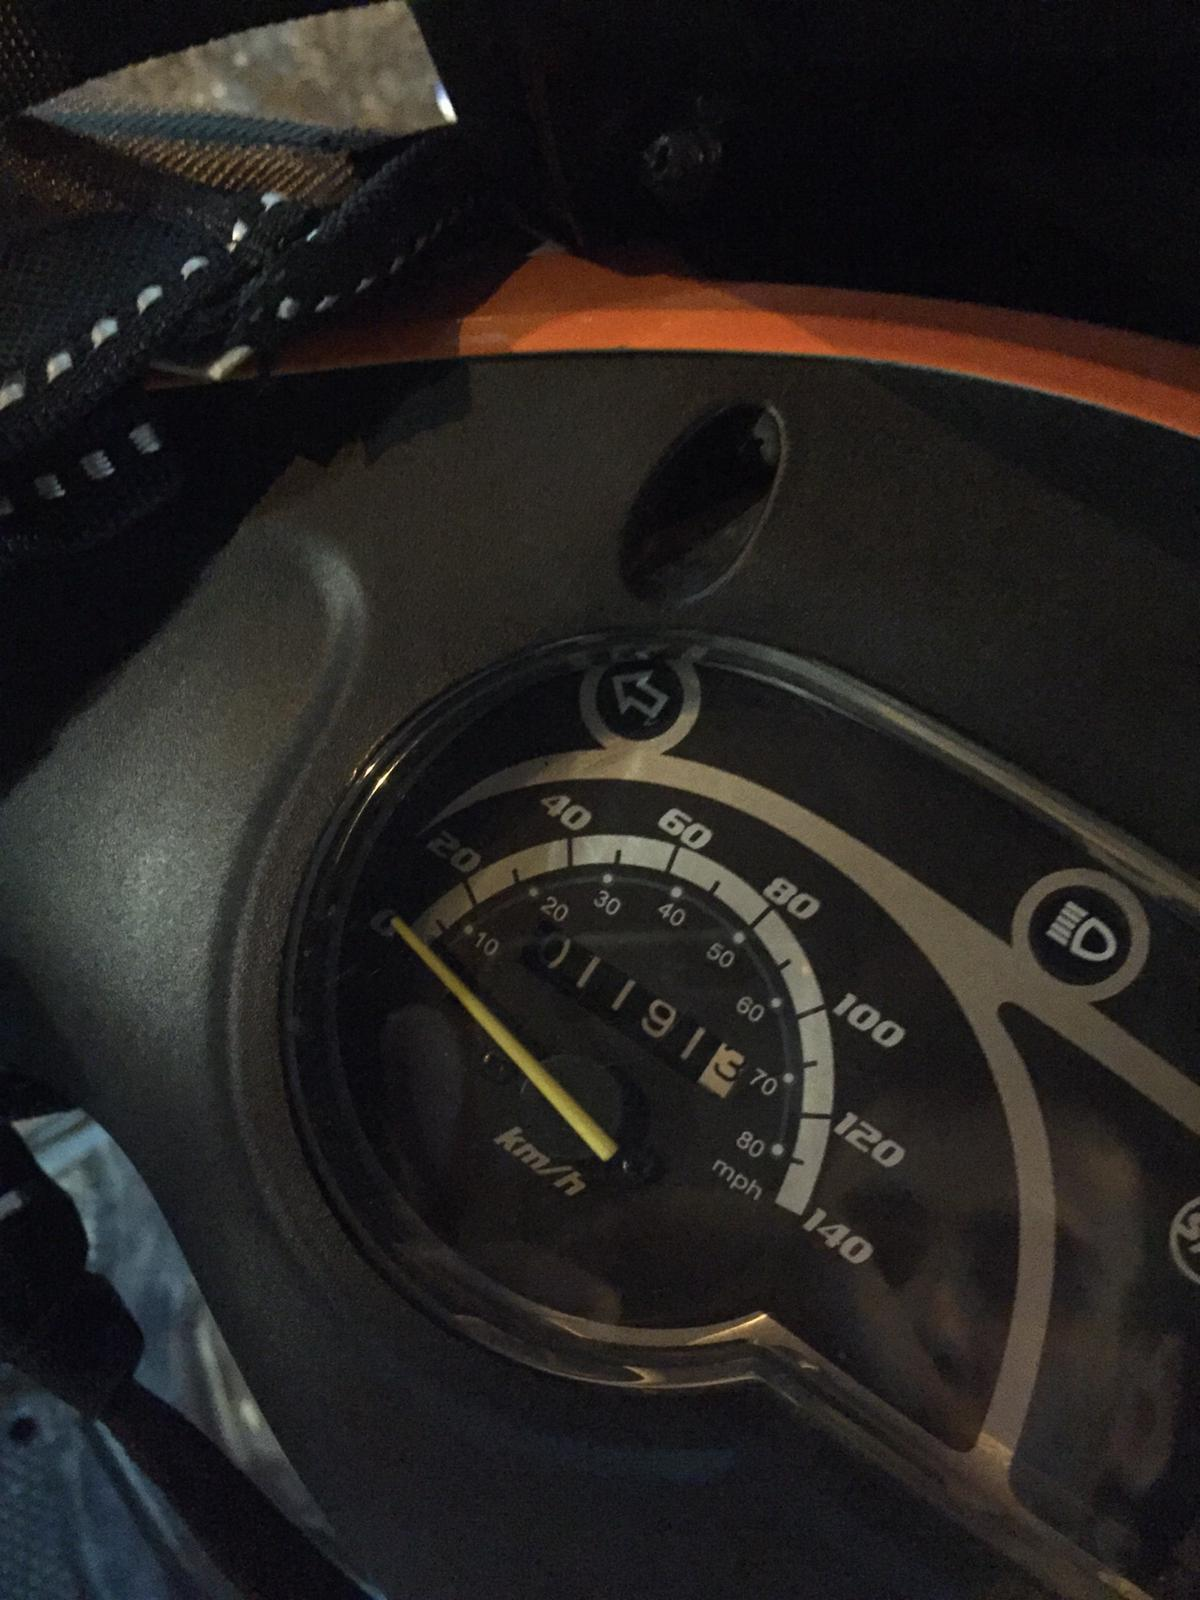0: (537, 929, 570, 971), (718, 949, 734, 968), (669, 912, 684, 927)
1: (678, 1024, 707, 1062), (608, 978, 637, 1012), (576, 956, 603, 989)
3: (712, 1042, 747, 1081)
5: (705, 941, 722, 960)
6: (735, 995, 753, 1015)
9: (639, 997, 677, 1041)
odometer: (508, 912, 753, 1106)
